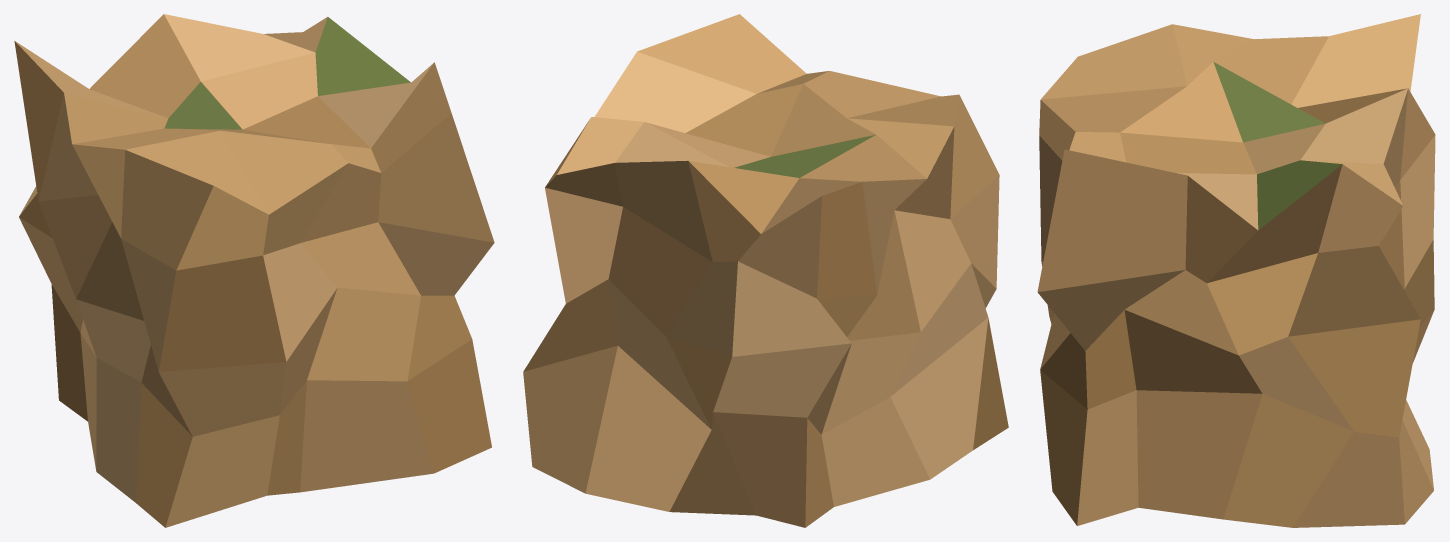
File: Sandstone_a.fbx
The picture shows the model from 3 angles, left to right: view 1: azimuth 30°, elevation 25°; view 2: azimuth 150°, elevation 25°; view 3: azimuth 270°, elevation 25°; orthographic projection. The views are drawn at different scales.
Visible parts, largest first — view 1: Sandstone_a; view 2: Sandstone_a; view 3: Sandstone_a.
Part boxes in pixels (x1,y1,x2,y2): Sandstone_a: (14,14,494,527); Sandstone_a: (523,14,1008,527); Sandstone_a: (1037,14,1435,527).
Size of what is drawn, in the model's own units: 1 by 1 by 1.
